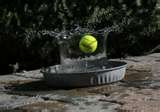tennis ball: (78, 35, 96, 53)
